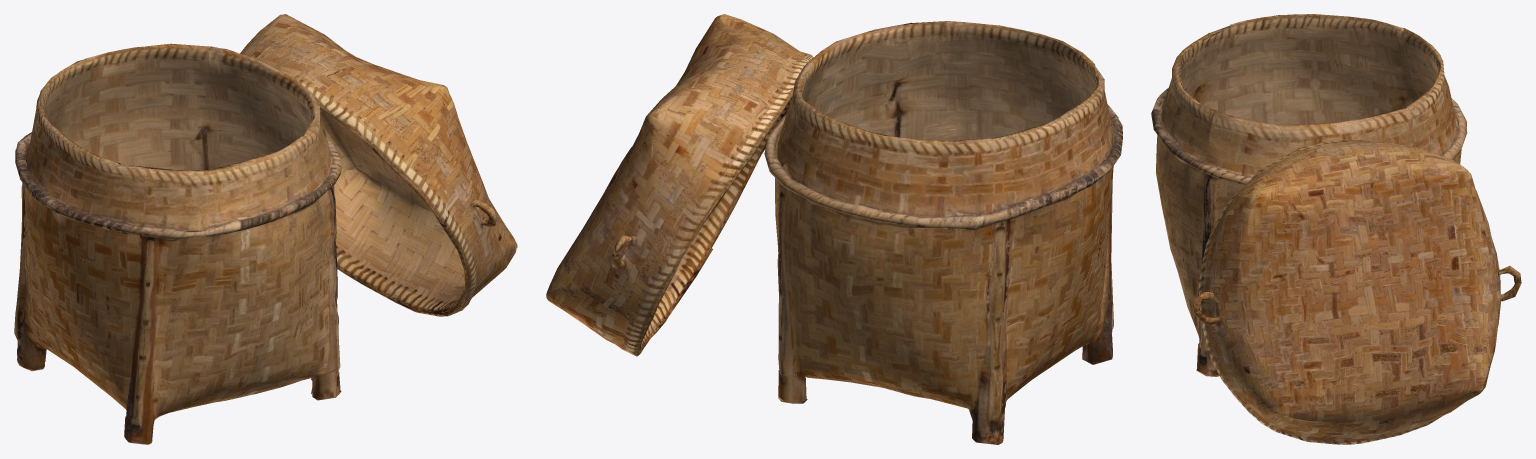
The picture shows the model from 3 angles, left to right: view 1: azimuth 30°, elevation 25°; view 2: azimuth 150°, elevation 25°; view 3: azimuth 270°, elevation 25°; orthographic projection. The views are drawn at different scales.
Visible parts, largest first — view 1: wicker_basket_02_base; view 2: wicker_basket_02_base; view 3: wicker_basket_02_base.
Part boxes in pixels (bbox=[...]): wicker_basket_02_base: bbox=[14, 14, 517, 444]; wicker_basket_02_base: bbox=[546, 14, 1122, 444]; wicker_basket_02_base: bbox=[1151, 14, 1521, 444].
Bounding box in the file's own units: 0.3465 × 0.2004 × 0.2544.
Materials: 1 (1 with a texture image).
